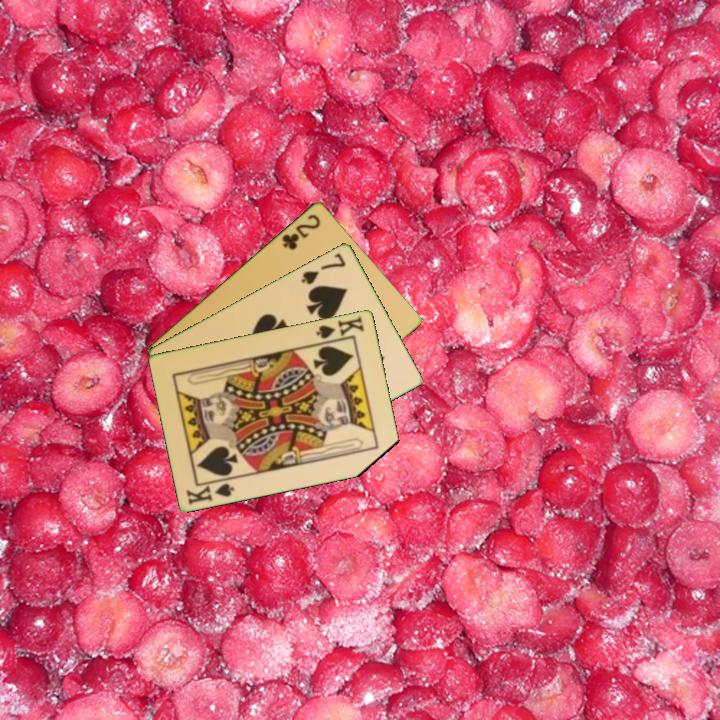2c: (278, 210, 323, 253)
7s: (298, 249, 349, 287)
Ks: (313, 312, 367, 346), (183, 475, 237, 508)
